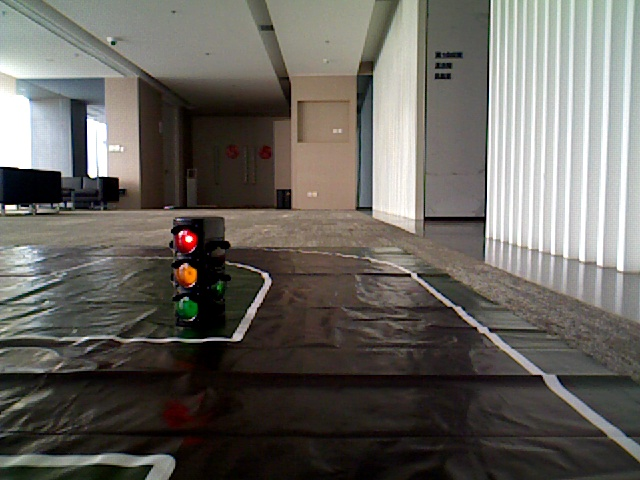red: (171, 220, 208, 321)
